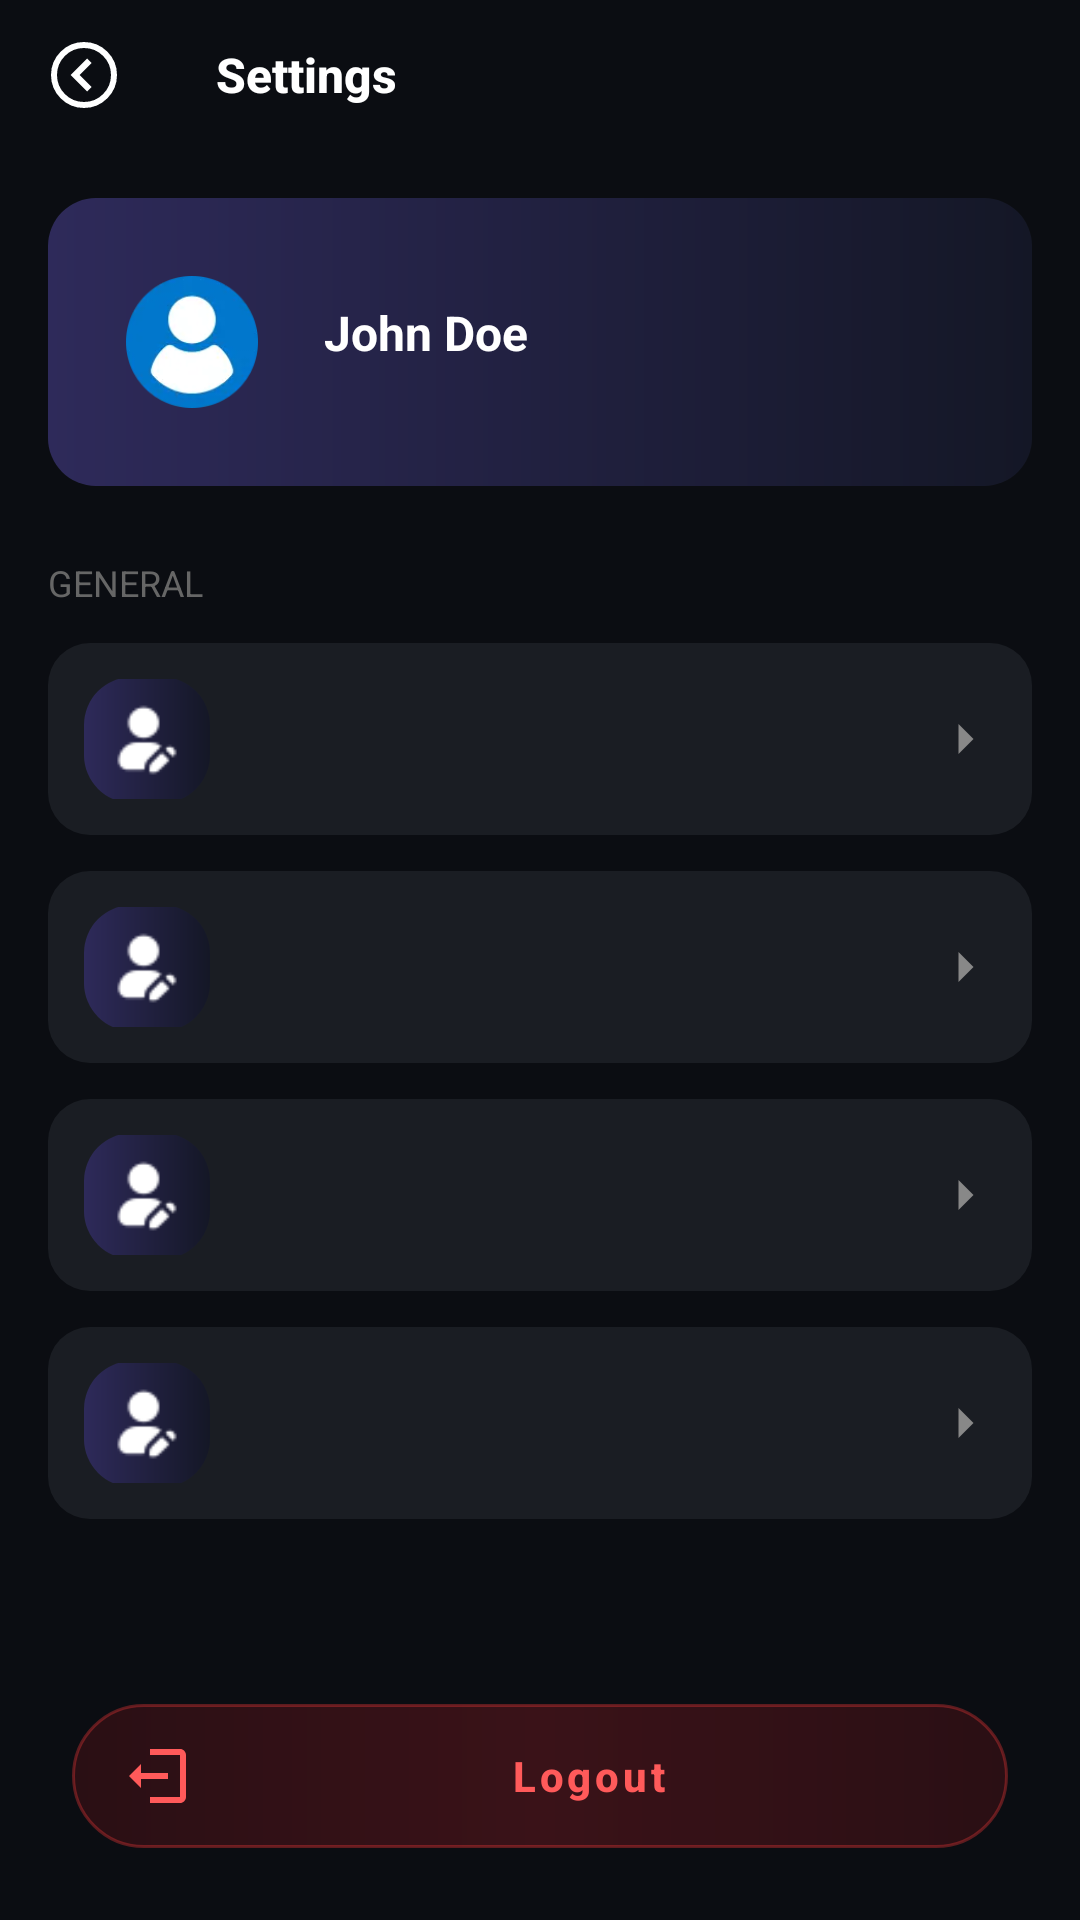

Icons on this 1080px x 1920px Android screen, each with the point to tap as (x=x, y=y):
arrow: (x=965, y=739), (x=965, y=967), (x=965, y=1195), (x=965, y=1423)
settings user: (x=130, y=739), (x=130, y=967), (x=130, y=1195), (x=130, y=1423)
user: (x=192, y=342)
